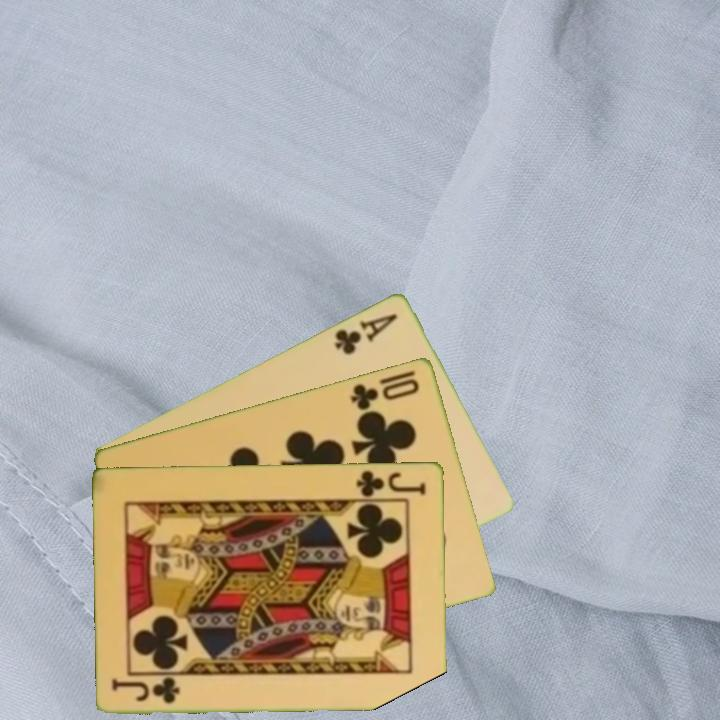10c: (347, 374, 423, 413)
Ac: (331, 309, 401, 358)
Jc: (352, 466, 429, 499), (109, 675, 183, 706)
